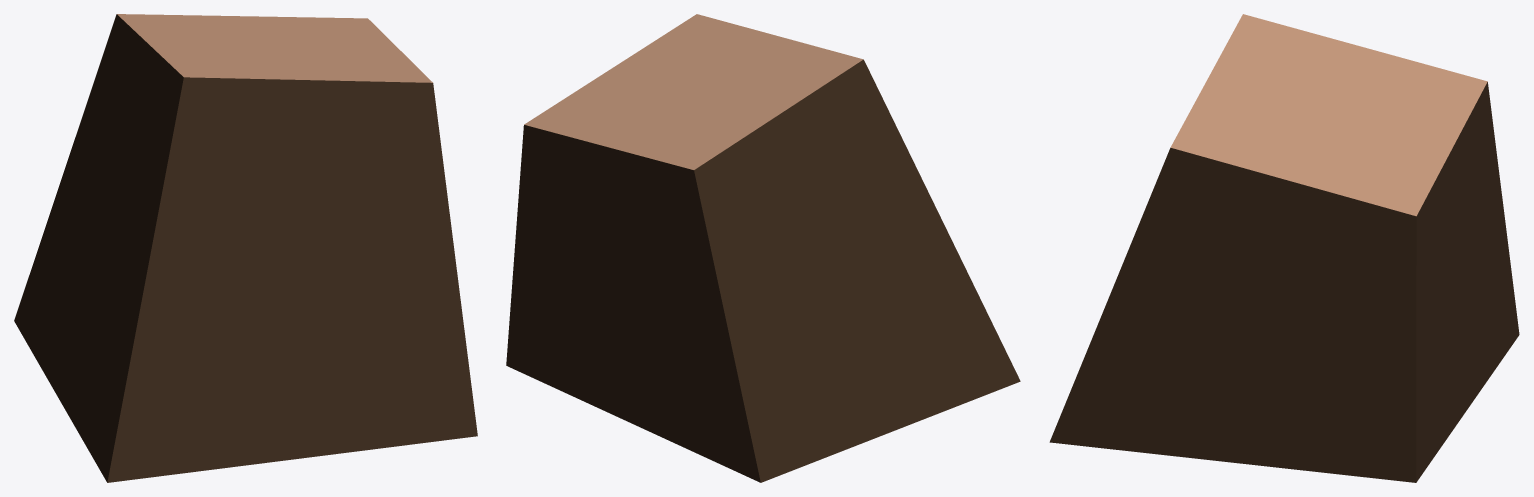
Rendered from ASSET_TREE_TRUNK.glb.
3 views of the same model, side by side, from view 1: azimuth 30°, elevation 25°; view 2: azimuth 150°, elevation 25°; view 3: azimuth 270°, elevation 25° (orthographic). The views are drawn at different scales.
Parts seen in each view (by area): view 1: ASSET_TREE_TRUNK.000|0; view 2: ASSET_TREE_TRUNK.000|0; view 3: ASSET_TREE_TRUNK.000|0.
Boxes of the visible parts, x1,y1,x2,y2 form: ASSET_TREE_TRUNK.000|0: (14,14,477,482); ASSET_TREE_TRUNK.000|0: (506,14,1020,482); ASSET_TREE_TRUNK.000|0: (1049,14,1519,482).
Size of the model in its own units: 0.6211 by 0.4951 by 0.6185.
